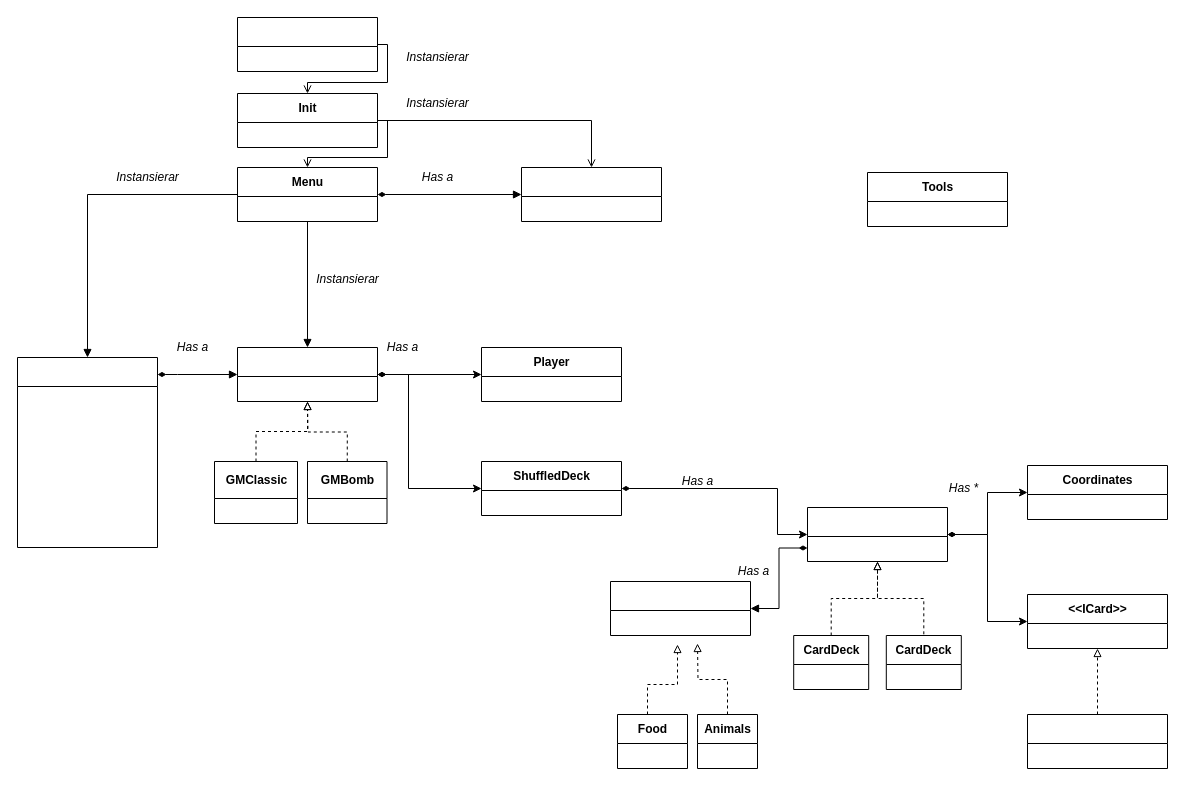
This 1185x786 diagram has some shape labels left out. Here are the shapes that lost their labels. From the top down, the box of each, then its label:
(236, 16, 378, 72): Program
(520, 166, 662, 222): Theme
(236, 346, 378, 402): <<Abstract>> GameMode
(16, 356, 158, 548): NewGame
(806, 506, 948, 562): <<Abstract>> Deck
(610, 580, 750, 636): <<IEmoji_Collection>>
(1026, 714, 1168, 768): Card
